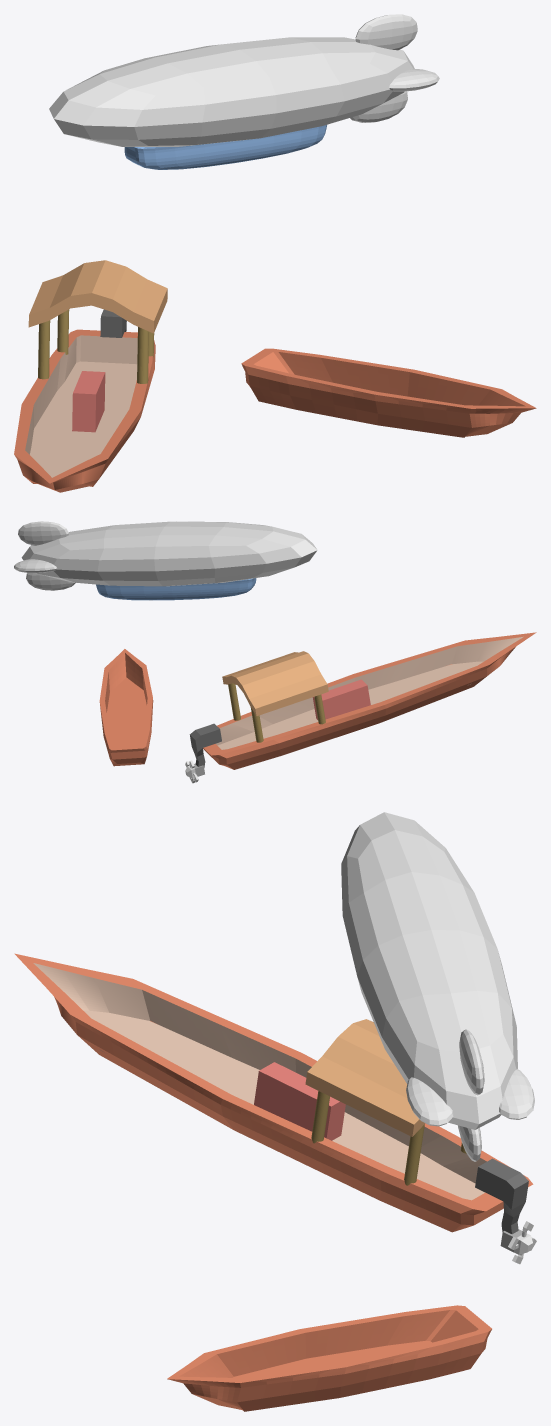
The model's file is Transport Game.fbx.
The picture shows the model from 3 angles, top to bottom: view 1: azimuth 30°, elevation 25°; view 2: azimuth 150°, elevation 25°; view 3: azimuth 270°, elevation 25°; orthographic projection. The views are drawn at different scales.
Visible parts, largest first — view 1: deck, deck.002, deck.001; view 2: deck.002, deck, deck.001; view 3: deck.002, deck, deck.001.
Boxes of the visible parts, left/top/right/bottom form: deck: left=49, top=14, right=439, bottom=169; deck.002: left=14, top=260, right=167, bottom=492; deck.001: left=241, top=348, right=536, bottom=437; deck.002: left=185, top=632, right=536, bottom=783; deck: left=14, top=521, right=317, bottom=600; deck.001: left=99, top=649, right=153, bottom=766; deck.002: left=14, top=953, right=536, bottom=1264; deck: left=341, top=812, right=534, bottom=1161; deck.001: left=167, top=1305, right=491, bottom=1411.
Bounding box in the file's own units: 1747 × 1103 × 1228.
